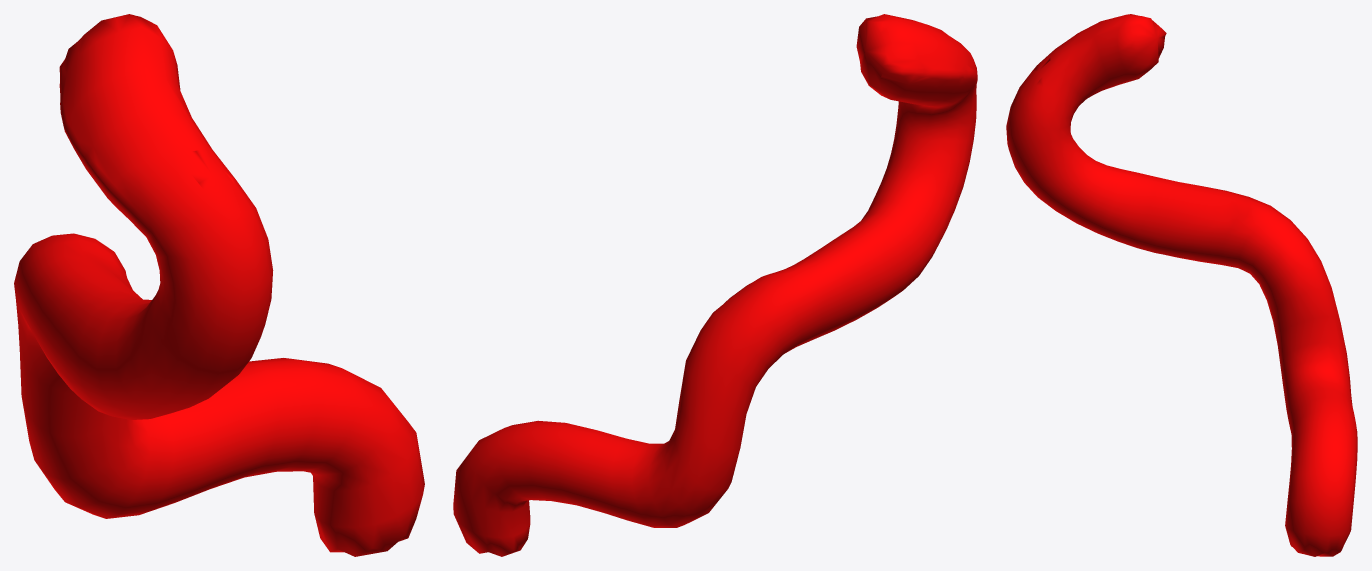
File: arteries_hp.DAE
The picture shows the model from 3 angles, left to right: view 1: azimuth 30°, elevation 25°; view 2: azimuth 150°, elevation 25°; view 3: azimuth 270°, elevation 25°; orthographic projection. The views are drawn at different scales.
Parts seen in each view (by area): view 1: main_arteries_L01; view 2: main_arteries_L01; view 3: main_arteries_L01.
Part boxes in pixels (<box>): main_arteries_L01: <box>14,14,424,556</box>; main_arteries_L01: <box>453,14,977,556</box>; main_arteries_L01: <box>1006,14,1357,556</box>.
Size of the model in its own units: 3.58 by 3.57 by 4.79.
